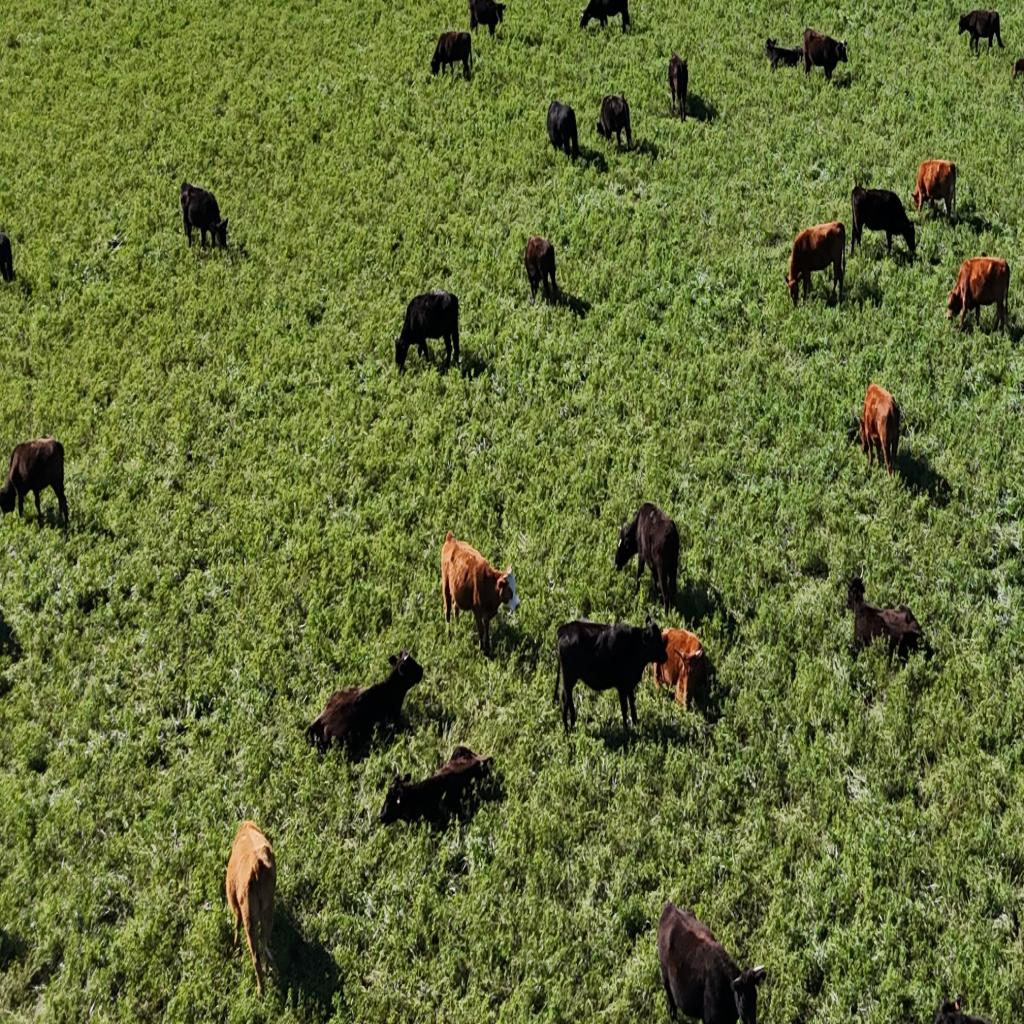cow: (554, 616, 666, 738), (657, 900, 765, 1024), (304, 652, 424, 762), (377, 746, 495, 832), (442, 534, 520, 658), (226, 819, 278, 998), (843, 574, 927, 668), (614, 502, 678, 614), (0, 436, 69, 528), (393, 290, 461, 378), (849, 182, 916, 260), (785, 220, 845, 307), (945, 256, 1010, 334), (856, 383, 904, 475), (178, 182, 227, 252), (911, 157, 957, 223), (802, 28, 849, 82), (430, 30, 474, 81), (595, 93, 632, 153), (523, 236, 555, 305), (546, 98, 580, 162), (958, 9, 1004, 56), (932, 997, 998, 1024), (580, 0, 629, 34), (469, 0, 506, 39), (668, 51, 688, 122), (764, 38, 802, 73), (0, 231, 14, 284), (1010, 52, 1022, 80), (1015, 56, 1024, 82)
